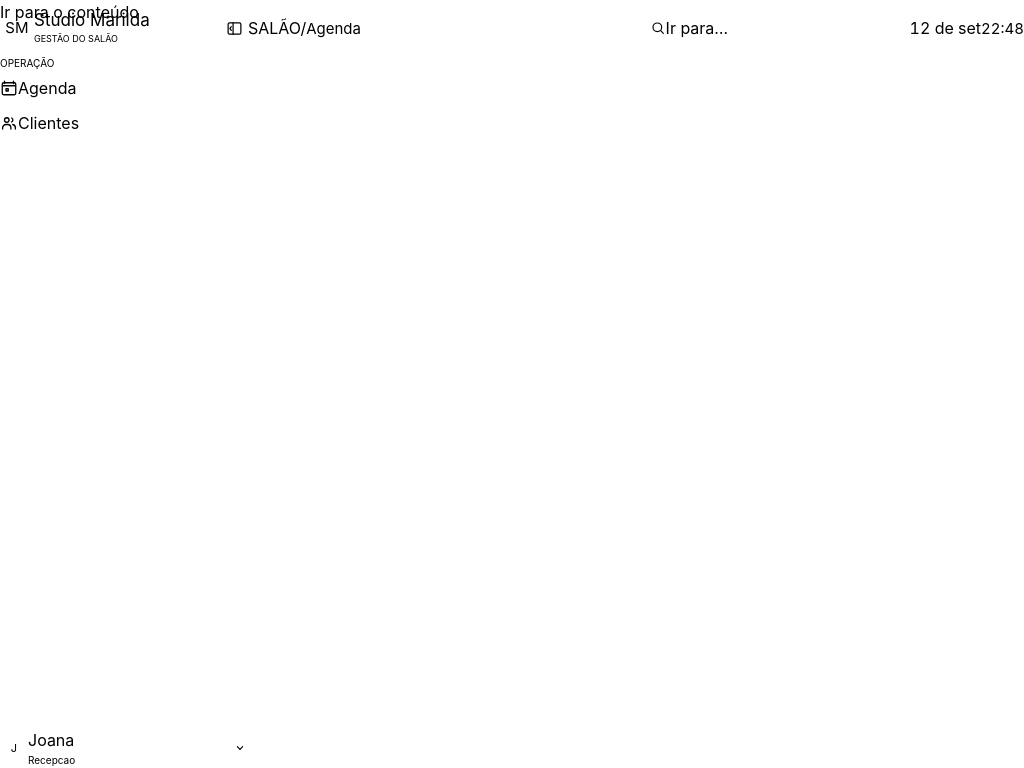
Test: casca › a busca ⌘K navega e só oferece o que o servidor mandou
Expected: the text "Studio Marilda" is shown, x1=34 y1=10 x2=150 y2=30
Press k
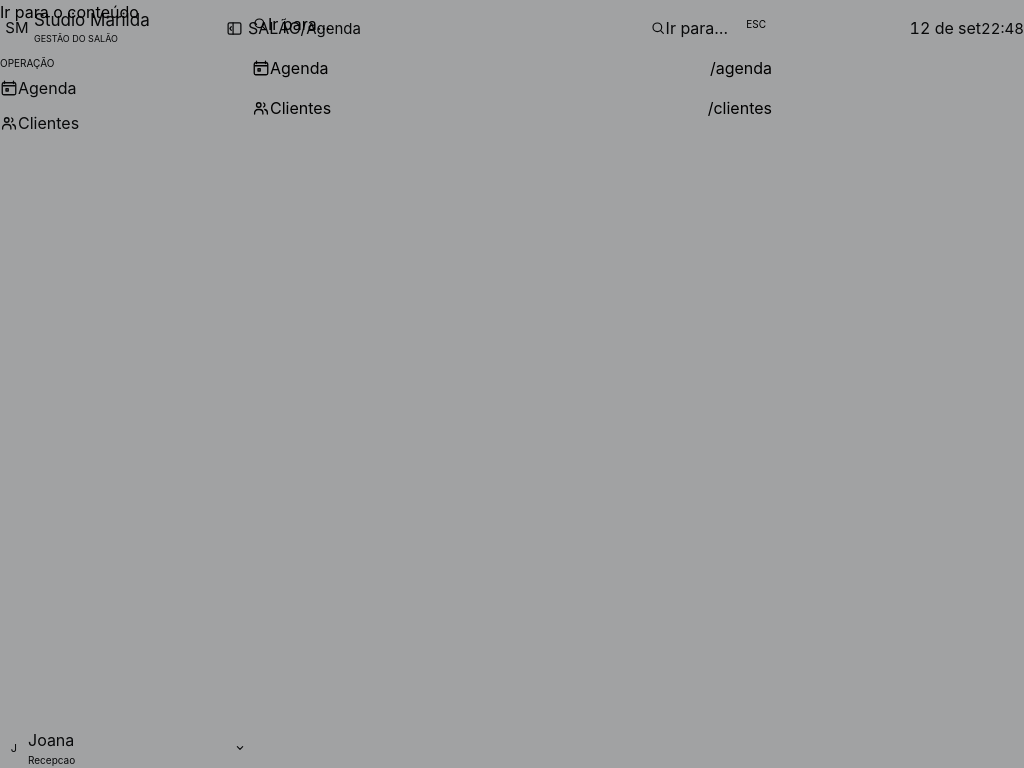
Type "financ" into the dropdown labelled "Ir para" at coordinates (504, 24), box x1=268 y1=0 x2=740 y2=48
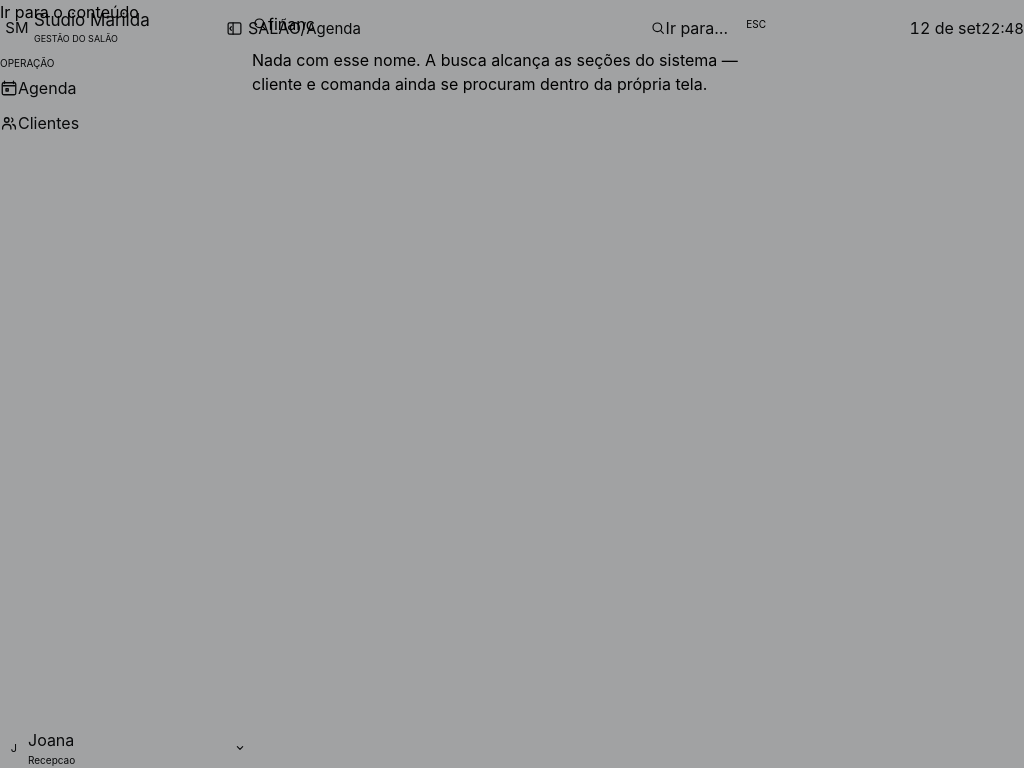
Result: the option is gone
# Sem acento: quem digita com o telefone no ombro não vai atrás do circunflexo.
Replace the text in the dropdown named "Ir para" with "operacao" at coordinates (504, 24), box x1=268 y1=0 x2=740 y2=48
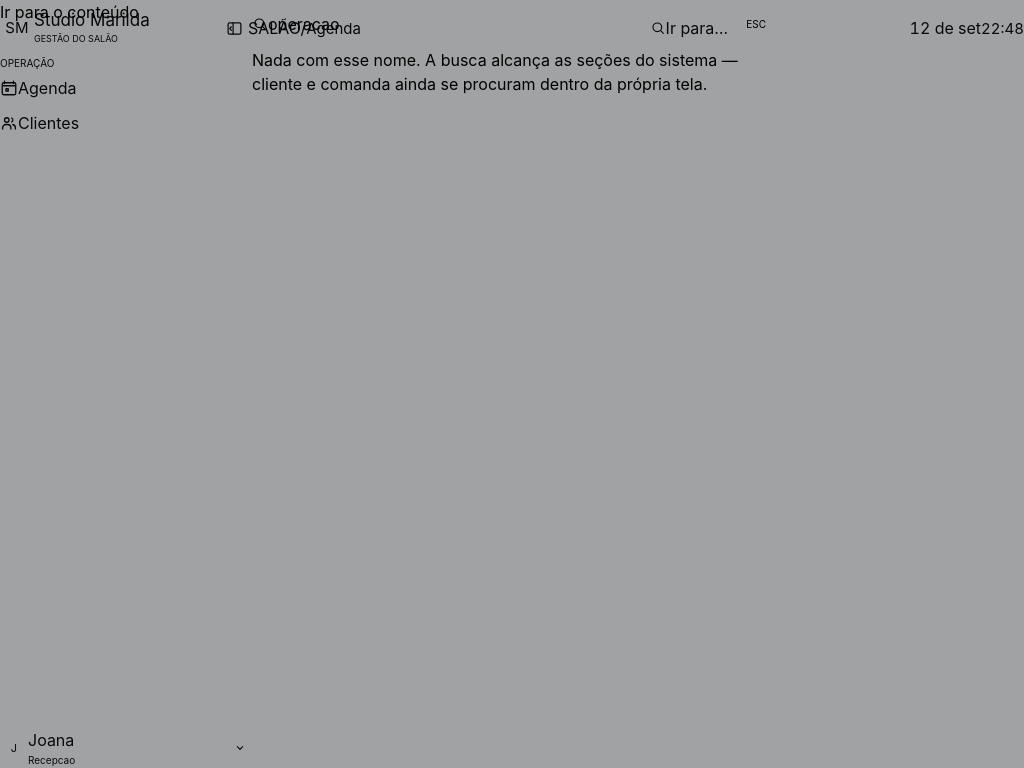
Replace the text in the dropdown named "Ir para" with "clien" at coordinates (504, 24), box x1=268 y1=0 x2=740 y2=48
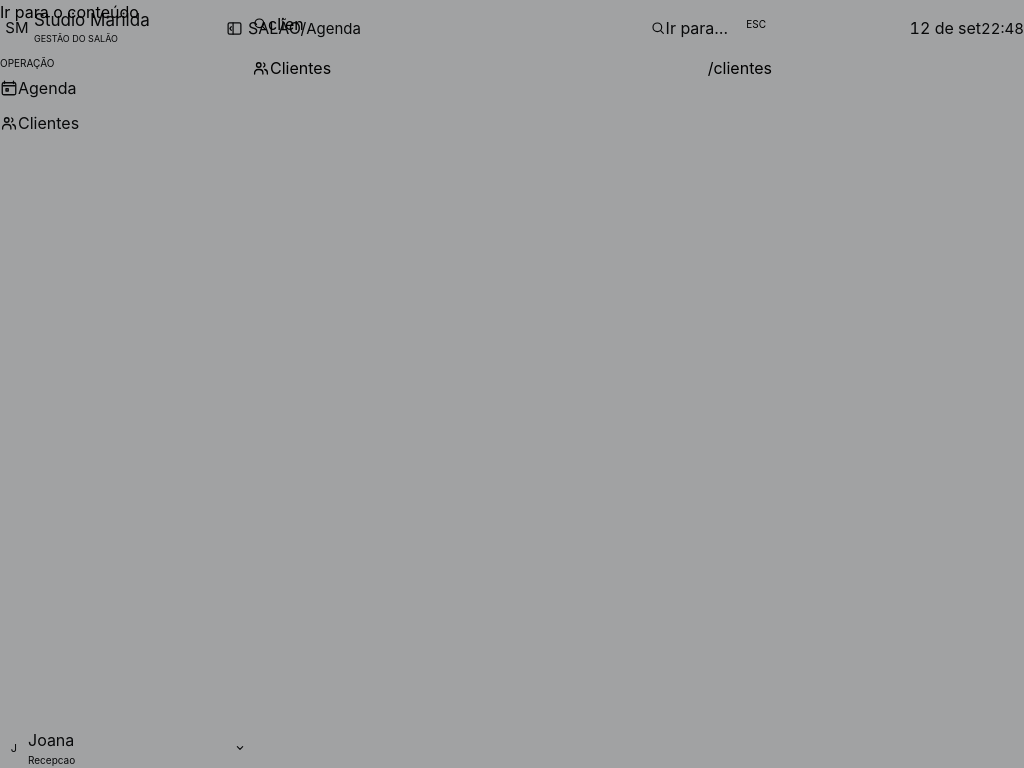
Result: the option "Clientes /clientes" is shown at x1=252 y1=48 x2=772 y2=88
Press Escape in the dropdown named "Ir para", box x1=268 y1=0 x2=740 y2=48
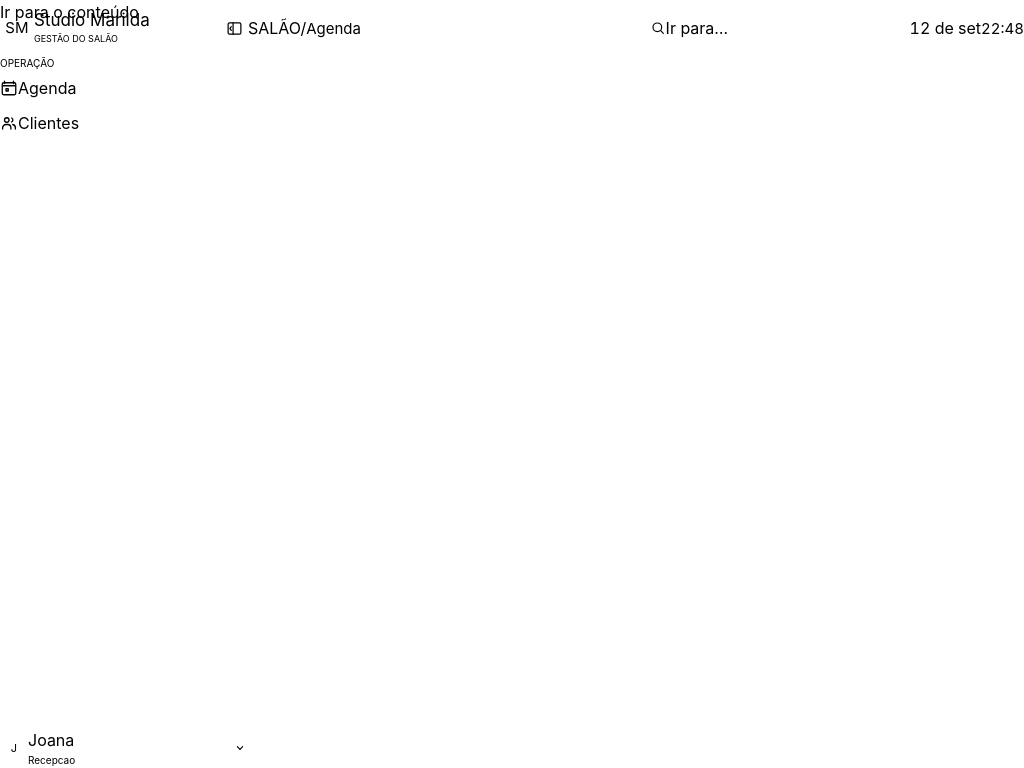
Result: the dropdown is gone
